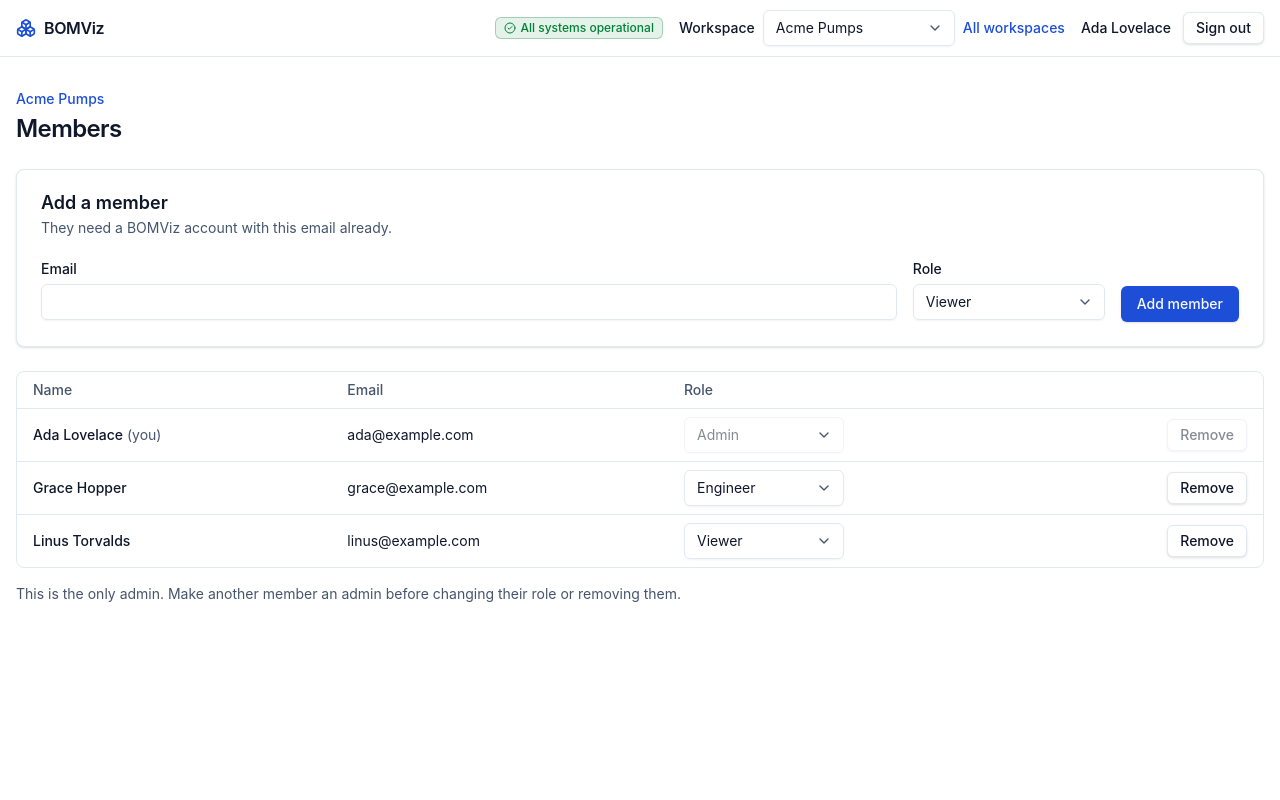
Test: removing a member › confirms with the name, email and role of the member
Click the button named "Remove Grace Hopper".
click(1207, 488)  # box [1167,472,1247,504]
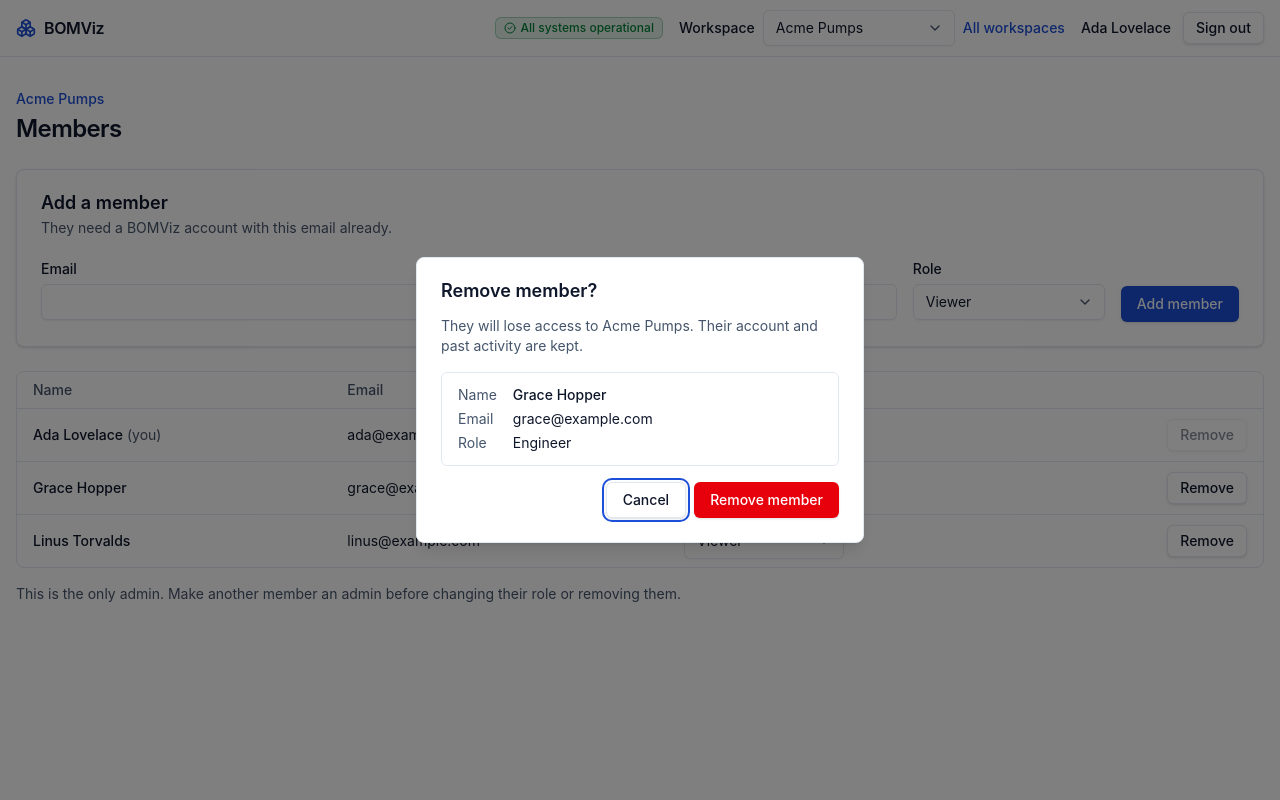
Now the text "Grace Hopper" is shown, box [513,386,606,403]
Now the text "grace@example.com" is shown, box [513,410,653,427]
Now the text "Engineer" is shown, box [513,434,571,451]
